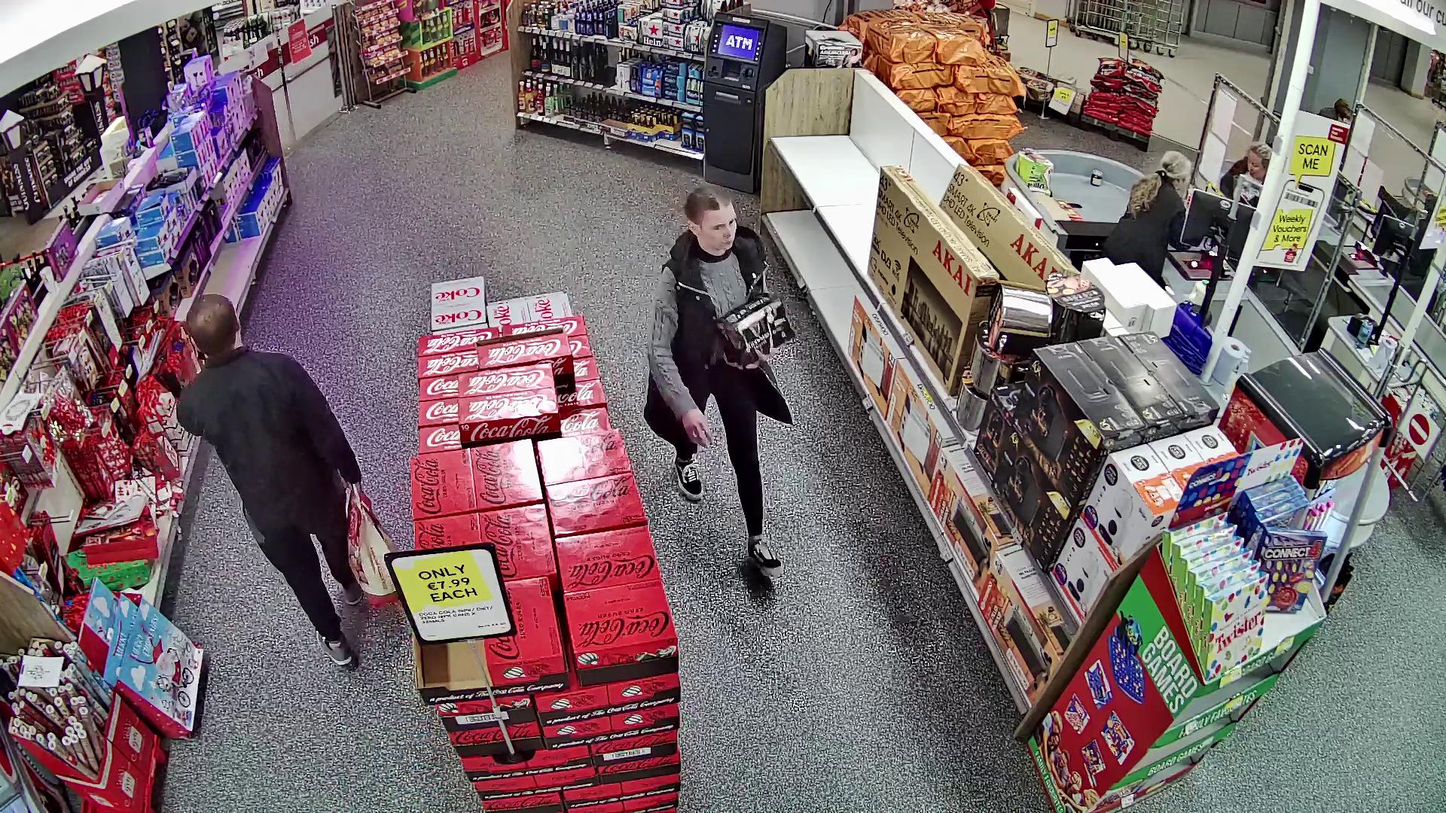carrying-item: (717, 295, 798, 365)
filled-shopping-bags: (345, 494, 402, 610)
occupied-checkout-counter: (1062, 150, 1259, 340)
person: (172, 292, 359, 667), (644, 187, 794, 573)
person-with-carrying-item: (644, 185, 802, 569)
person-with-filled-shopping-bag-s-: (172, 292, 401, 668)
